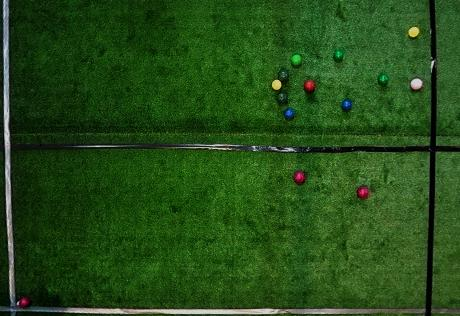blue: (341, 99, 352, 110), (284, 108, 294, 119)
green: (291, 54, 302, 66), (333, 50, 344, 61), (276, 92, 288, 102), (378, 74, 388, 85), (278, 70, 288, 80)
red: (410, 77, 424, 90), (293, 171, 306, 184), (357, 187, 369, 199), (304, 80, 316, 92), (19, 297, 30, 308)
vline: (425, 1, 460, 315), (0, 1, 20, 315)
white: (17, 301, 20, 306)
yellow: (408, 27, 420, 38), (271, 80, 282, 90)
